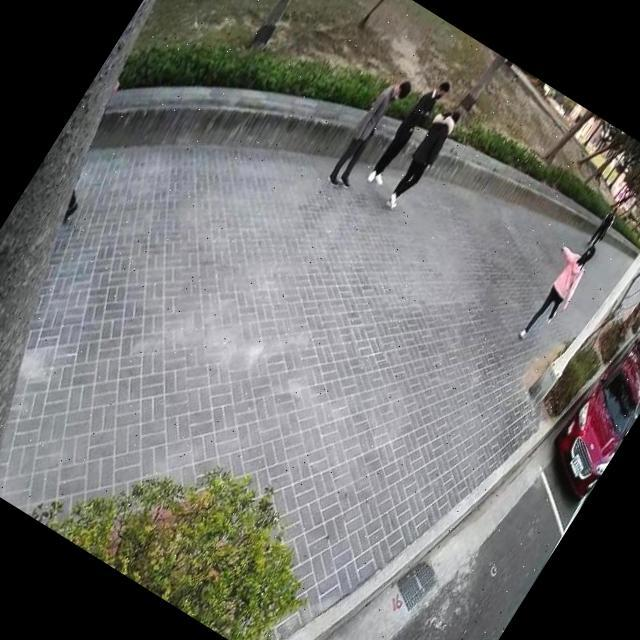person: (505, 226, 605, 352), (321, 66, 417, 196), (360, 66, 456, 194), (378, 96, 468, 220), (582, 200, 624, 253)
